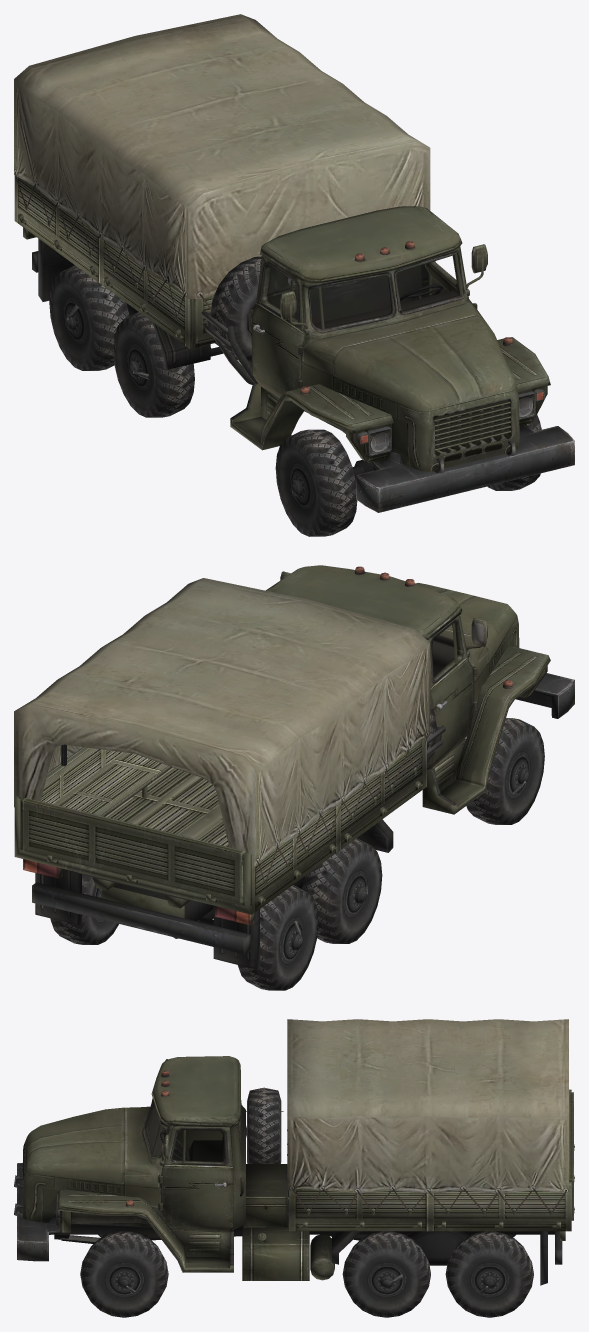
File: ural.glb
The picture shows the model from 3 angles, top to bottom: view 1: azimuth 30°, elevation 25°; view 2: azimuth 150°, elevation 25°; view 3: azimuth 270°, elevation 25°; orthographic projection. The views are drawn at different scales.
Visible parts, largest first — view 1: Object_4; view 2: Object_4; view 3: Object_4.
Boxes of the visible parts, x1=… form: Object_4: x1=14, y1=14, x2=574, y2=536; Object_4: x1=14, y1=565, x2=574, y2=990; Object_4: x1=14, y1=1019, x2=574, y2=1317.
Bounding box in the file's own units: 2.58 × 2.77 × 6.4.
Materials: 1 (1 with a texture image).
